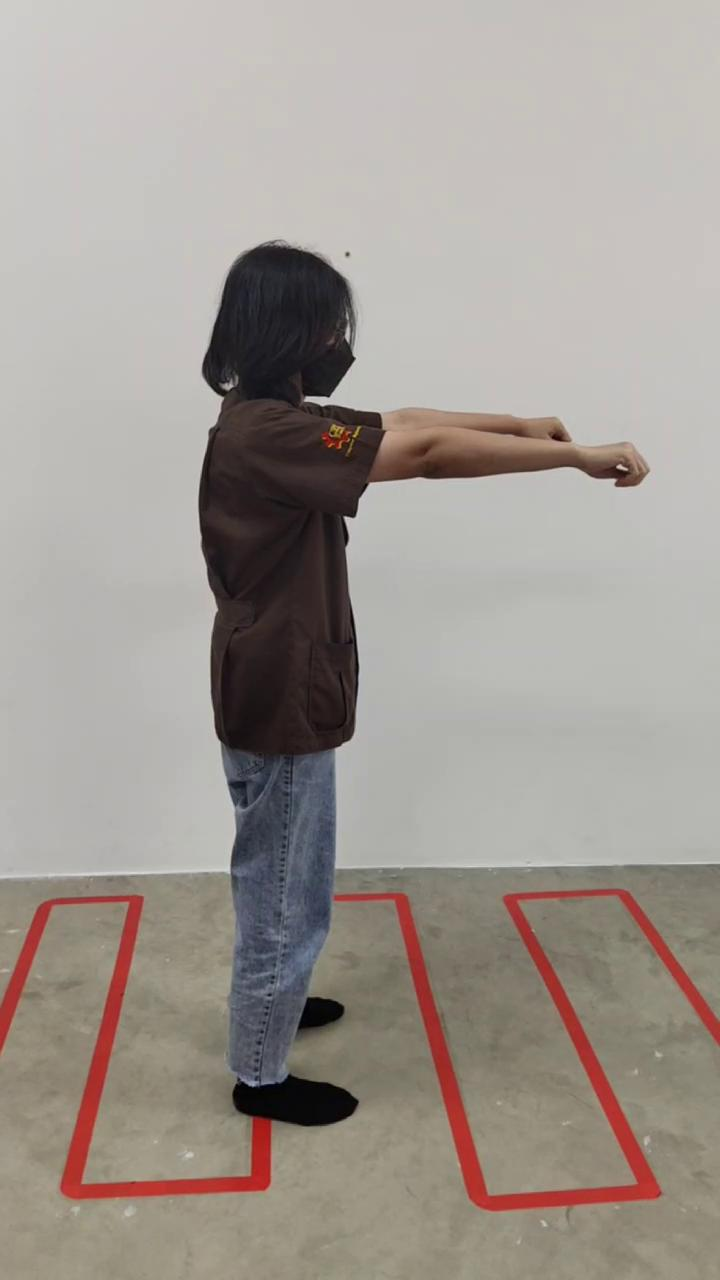squat up: (200, 242, 648, 1128)
